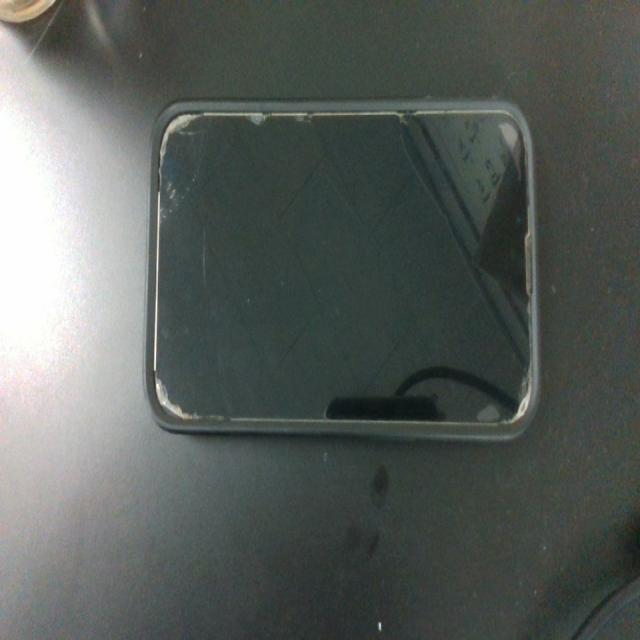phone: (147, 67, 547, 482)
